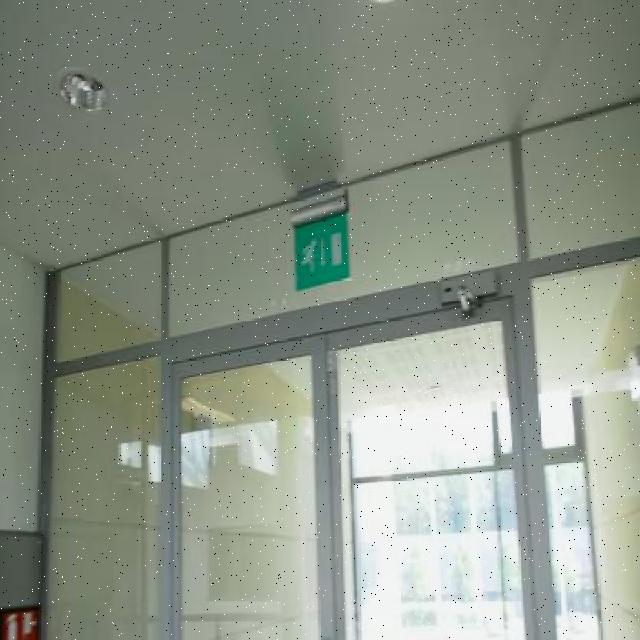emergency_exit: (292, 210, 352, 292), (0, 604, 40, 639)
